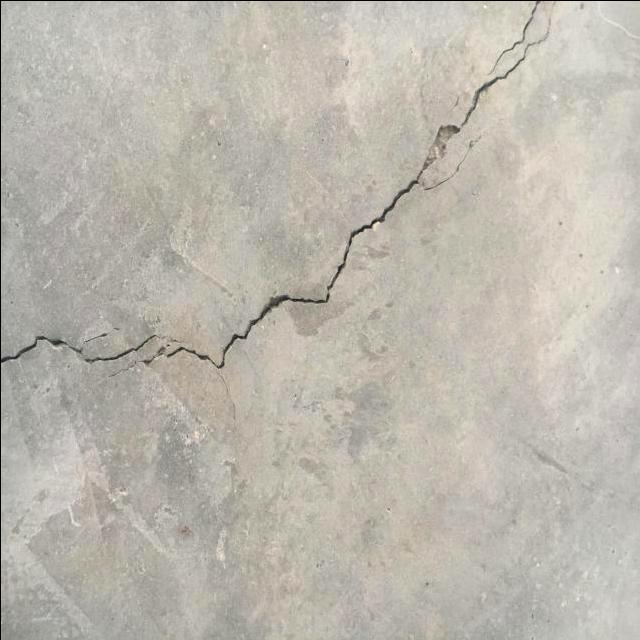SurfaceCrack: (1, 0, 601, 409)
